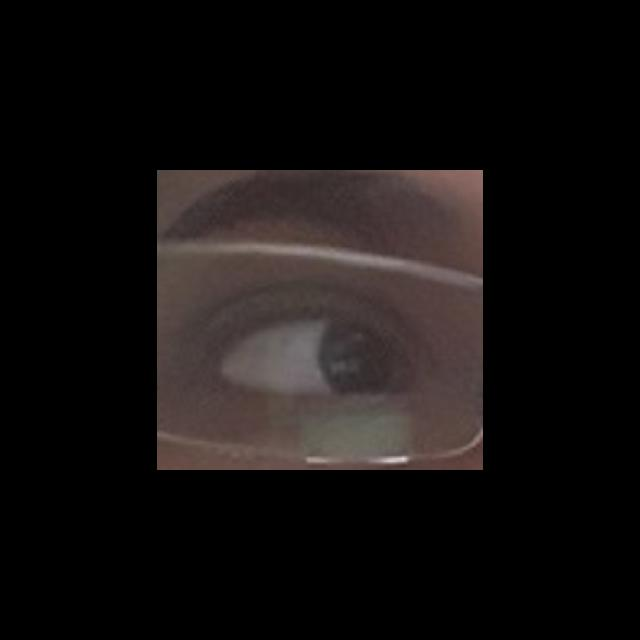eye: (218, 319, 401, 394)
iris: (326, 325, 398, 391)
